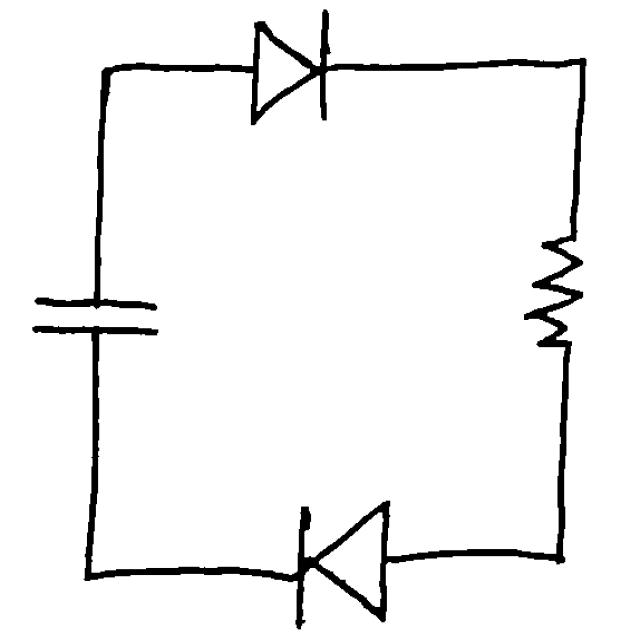capacitor: (25, 272, 173, 371)
diode: (275, 484, 412, 635), (233, 2, 346, 138)
resistor: (512, 220, 600, 364)
